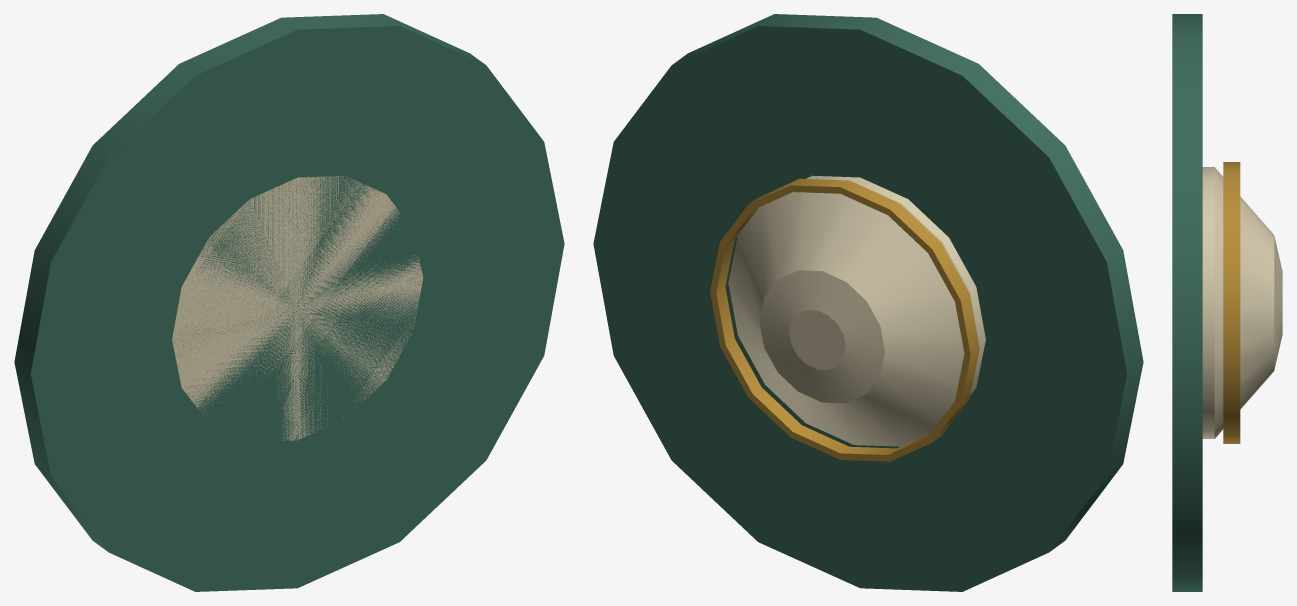
File: tank4200_coupler_fore.obj
3 views of the same model, side by side, from view 1: azimuth 30°, elevation 25°; view 2: azimuth 150°, elevation 25°; view 3: azimuth 270°, elevation 25° (orthographic). The views are drawn at different scales.
Parts seen in each view (by area): view 1: tank4200_coupler_fore; view 2: tank4200_coupler_fore; view 3: tank4200_coupler_fore.
Boxes of the visible parts, <box> form: tank4200_coupler_fore: <box>14,14,564,591</box>; tank4200_coupler_fore: <box>593,14,1143,591</box>; tank4200_coupler_fore: <box>1172,14,1282,591</box>.
Size of the model in its own units: 3.4 by 3.4 by 0.65.
